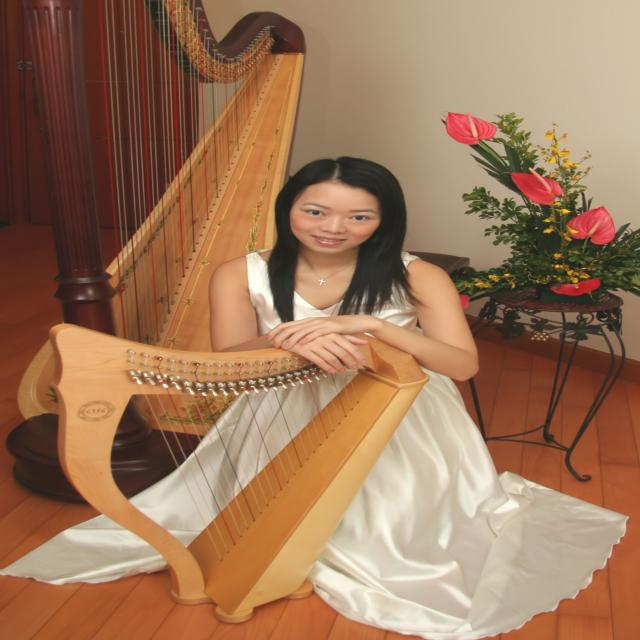harp: (4, 0, 311, 499), (42, 308, 430, 627)
